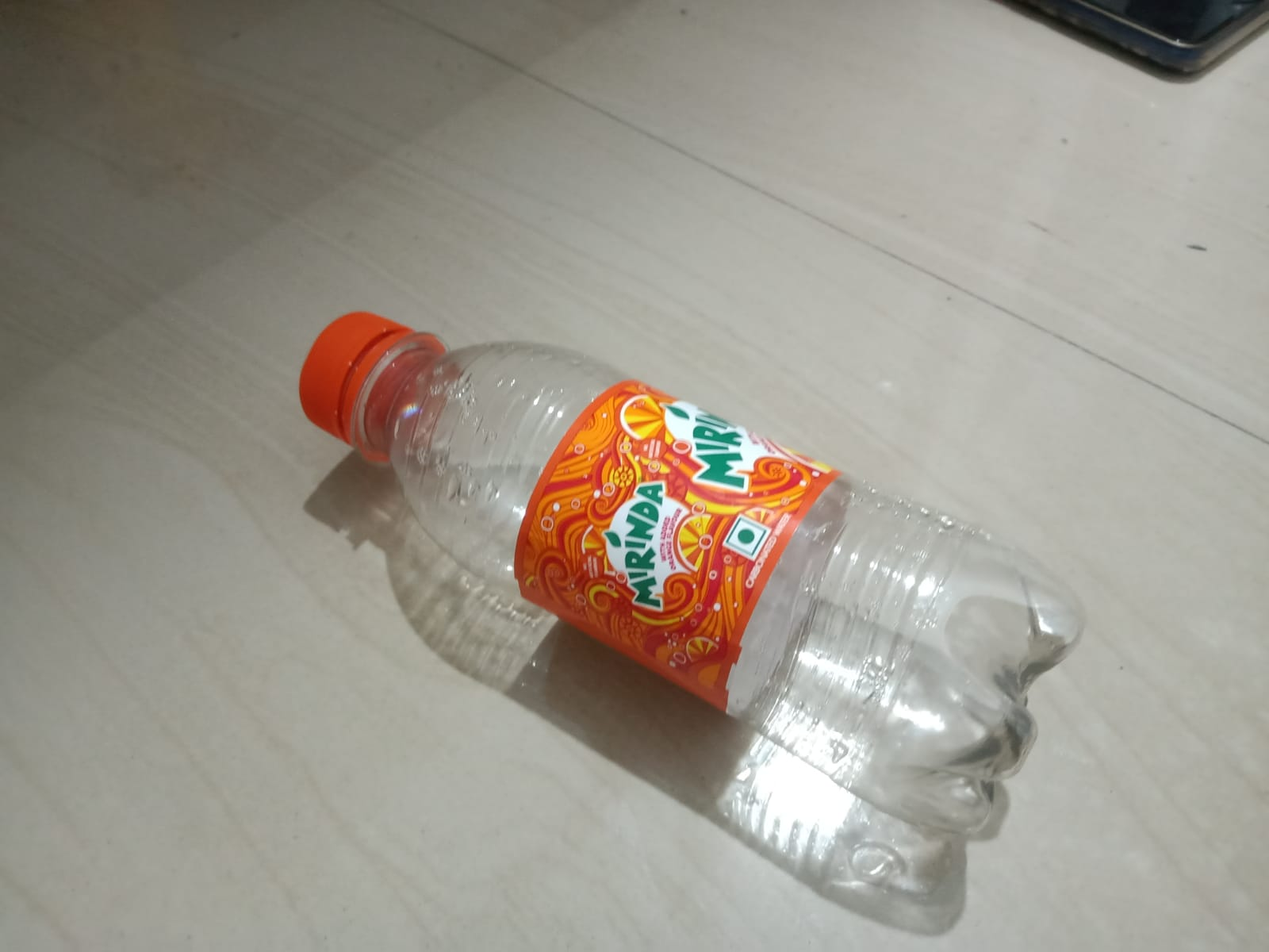plastic: (184, 284, 1160, 852)
